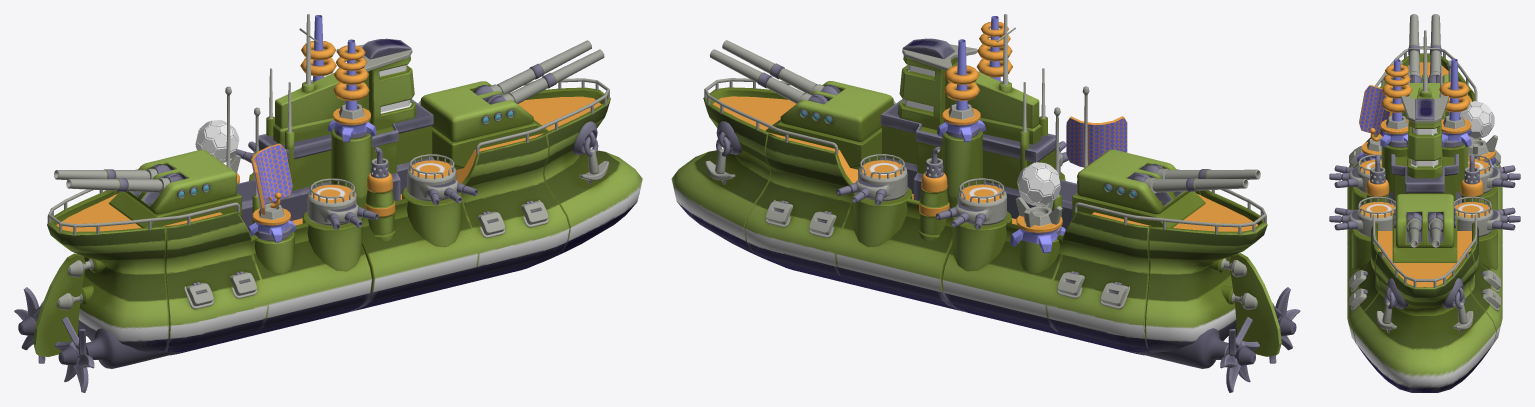
The model's file is 4_square_ship.fbx.
3 views of the same model, side by side, from view 1: azimuth 30°, elevation 25°; view 2: azimuth 150°, elevation 25°; view 3: azimuth 270°, elevation 25° (orthographic). The views are drawn at different scales.
Visible parts, largest first — view 1: Sphere.068, Cube.101, Cylinder.073, Cube.103, Sphere.069, Cylinder.074, Cube.108, Plane.014, Cube.105, Cube.114, Cube.109, Cube.116 (+24 smaller); view 2: Sphere.068, Cube.101, Cylinder.073, Cube.103, Sphere.069, Cylinder.074, Cube.108, Cube.105, Plane.014, Cube.109, Cube.114, Cube.116 (+26 smaller); view 3: Sphere.068, Cylinder.074, Cube.101, Cube.108, Sphere.069, Sphere.073, Cylinder.073, Cube.113, Cube.114, Cube.103, Sphere.074, Cylinder.082 (+28 smaller).
Boxes of the visible parts, x1=… form: Sphere.068: x1=47, y1=87, x2=642, y2=355; Cube.101: x1=125, y1=81, x2=533, y2=214; Cylinder.073: x1=249, y1=172, x2=461, y2=271; Cube.103: x1=109, y1=120, x2=548, y2=227; Sphere.069: x1=56, y1=96, x2=601, y2=231; Cylinder.074: x1=251, y1=151, x2=457, y2=225; Cube.108: x1=356, y1=56, x2=416, y2=138; Plane.014: x1=33, y1=253, x2=85, y2=356; Cube.105: x1=259, y1=126, x2=432, y2=190; Cube.114: x1=184, y1=200, x2=548, y2=309; Cube.109: x1=275, y1=62, x2=368, y2=128; Cube.116: x1=18, y1=316, x2=189, y2=368; Sphere.068: x1=671, y1=87, x2=1267, y2=355; Cube.101: x1=780, y1=81, x2=1189, y2=214; Cylinder.073: x1=853, y1=172, x2=1065, y2=271; Cube.103: x1=765, y1=119, x2=1205, y2=227; Sphere.069: x1=712, y1=96, x2=1257, y2=231; Cylinder.074: x1=856, y1=151, x2=1062, y2=225; Cube.108: x1=897, y1=55, x2=957, y2=138; Cube.105: x1=882, y1=125, x2=1055, y2=191; Plane.014: x1=1229, y1=253, x2=1281, y2=356; Cube.109: x1=945, y1=62, x2=1039, y2=128; Cube.114: x1=765, y1=199, x2=1129, y2=309; Cube.116: x1=1126, y1=316, x2=1296, y2=368; Sphere.068: x1=1347, y1=53, x2=1502, y2=392; Cylinder.074: x1=1349, y1=159, x2=1500, y2=237; Cube.101: x1=1396, y1=74, x2=1453, y2=247; Cube.108: x1=1407, y1=120, x2=1442, y2=178; Sphere.069: x1=1377, y1=62, x2=1471, y2=287; Sphere.073: x1=1329, y1=165, x2=1520, y2=230; Cylinder.073: x1=1352, y1=187, x2=1497, y2=269; Cube.113: x1=1376, y1=278, x2=1473, y2=333; Cube.114: x1=1349, y1=146, x2=1500, y2=311; Cube.103: x1=1392, y1=212, x2=1457, y2=262; Sphere.074: x1=1372, y1=46, x2=1477, y2=287; Cylinder.082: x1=1381, y1=144, x2=1468, y2=193.
Bounding box in the file's own units: 1692 × 797 × 537.
